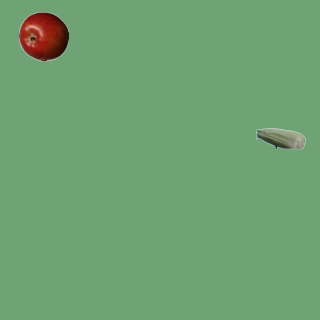Apple Braeburn: (18, 11, 68, 61)
Corn Husk: (255, 113, 305, 163)
